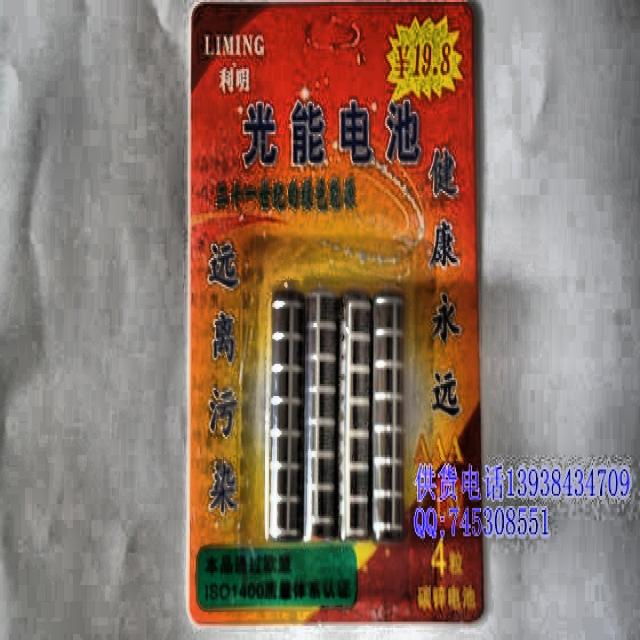Non-Valuable Waste - Batteries: (268, 289, 402, 540)
